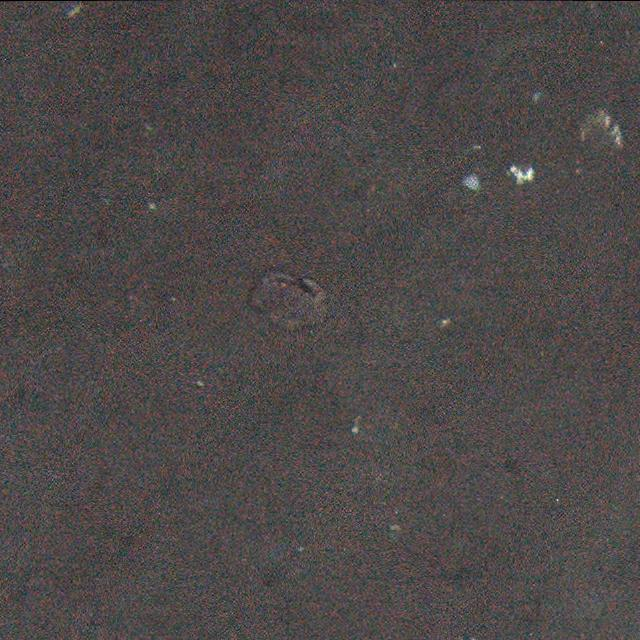crab: (253, 270, 331, 332)
